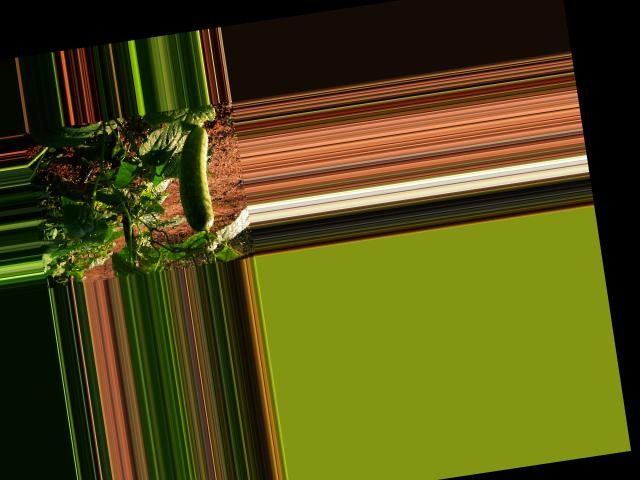cucumber: (171, 125, 221, 232)
